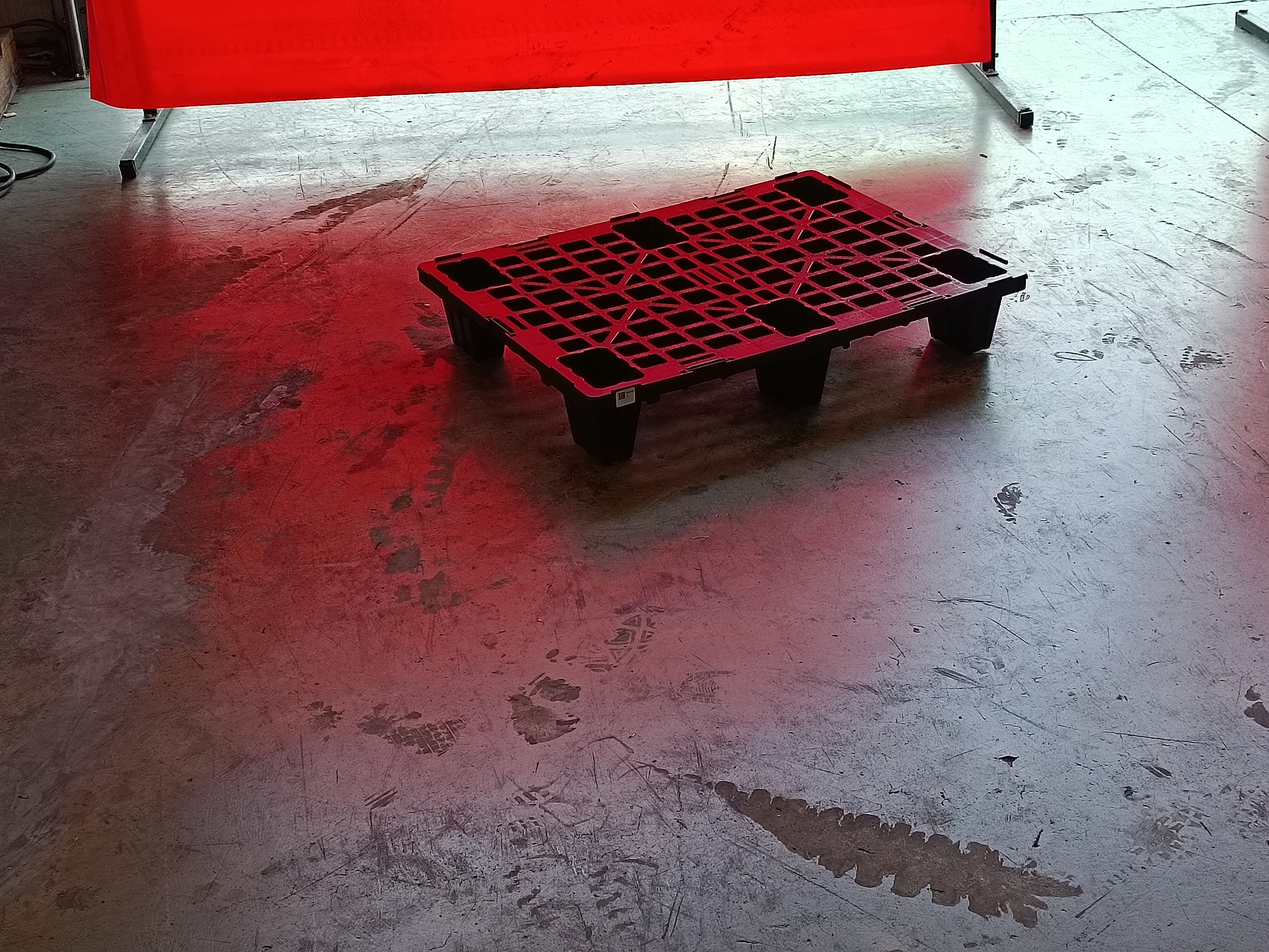block: (931, 274, 1013, 356), (568, 390, 643, 466), (755, 343, 827, 416), (444, 299, 508, 378)
front: (608, 269, 1028, 469)
hole pallet: (628, 367, 786, 454), (823, 312, 961, 397)
